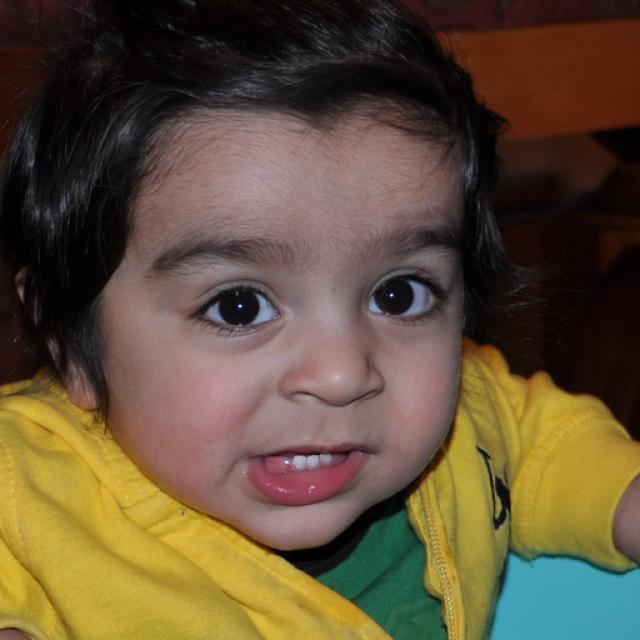surprise: (104, 102, 465, 548)
